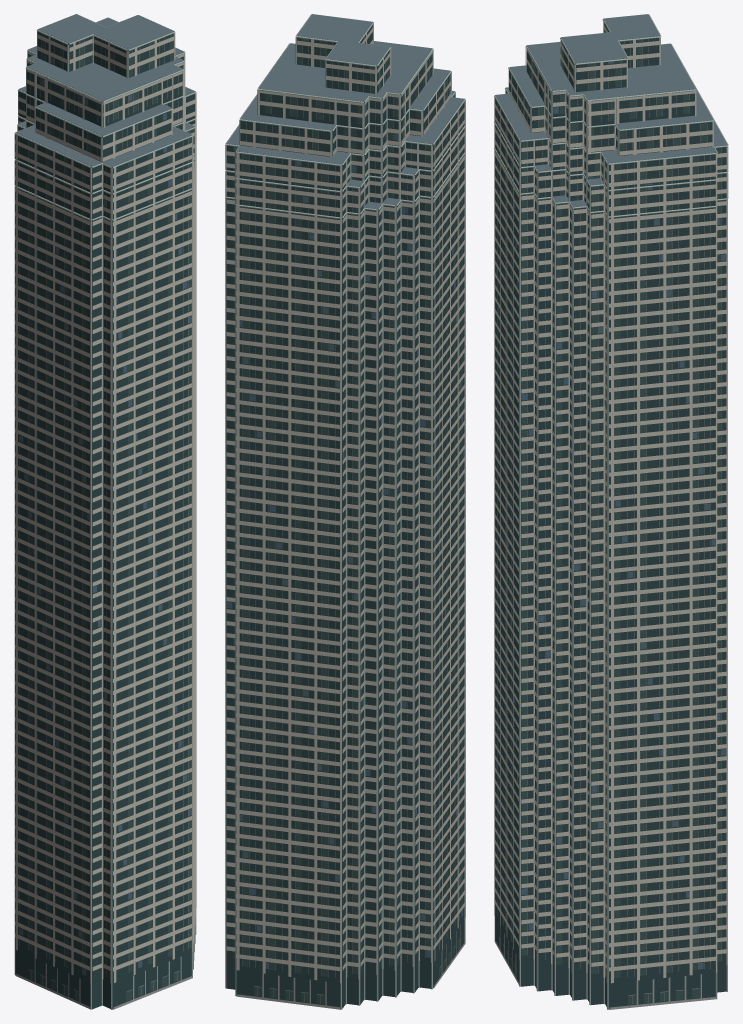
The model's file is bank-of-america-plaza-dallas-near.glb.
3 views of the same model, side by side, from view 1: azimuth 30°, elevation 25°; view 2: azimuth 150°, elevation 25°; view 3: azimuth 270°, elevation 25° (orthographic).
Parts seen in each view (by area): view 1: bank-of-america-plaza-dallas-0-glass, bank-of-america-plaza-dallas-0-band, bank-of-america-plaza-dallas-0-reflection, bank-of-america-plaza-dallas-0-light, bank-of-america-plaza-dallas-0-roof, bank-of-america-plaza-dallas-0-mullion, bank-of-america-plaza-dallas-0-glow, bank-of-america-plaza-dallas-0-stone; view 2: bank-of-america-plaza-dallas-0-glass, bank-of-america-plaza-dallas-0-band, bank-of-america-plaza-dallas-0-reflection, bank-of-america-plaza-dallas-0-light, bank-of-america-plaza-dallas-0-roof, bank-of-america-plaza-dallas-0-mullion, bank-of-america-plaza-dallas-0-glow, bank-of-america-plaza-dallas-0-stone; view 3: bank-of-america-plaza-dallas-0-glass, bank-of-america-plaza-dallas-0-band, bank-of-america-plaza-dallas-0-reflection, bank-of-america-plaza-dallas-0-light, bank-of-america-plaza-dallas-0-mullion, bank-of-america-plaza-dallas-0-roof, bank-of-america-plaza-dallas-0-glow, bank-of-america-plaza-dallas-0-stone.
Part boxes in pixels (box(x1,y1,x2,y2)): bank-of-america-plaza-dallas-0-glass: box(15, 29, 195, 1009); bank-of-america-plaza-dallas-0-band: box(15, 32, 196, 982); bank-of-america-plaza-dallas-0-reflection: box(18, 33, 194, 1001); bank-of-america-plaza-dallas-0-light: box(14, 14, 196, 1009); bank-of-america-plaza-dallas-0-roof: box(15, 14, 195, 166); bank-of-america-plaza-dallas-0-mullion: box(19, 33, 190, 999); bank-of-america-plaza-dallas-0-glow: box(15, 54, 191, 975); bank-of-america-plaza-dallas-0-stone: box(15, 956, 191, 1009); bank-of-america-plaza-dallas-0-glass: box(226, 22, 464, 1008); bank-of-america-plaza-dallas-0-band: box(226, 23, 465, 983); bank-of-america-plaza-dallas-0-reflection: box(233, 32, 462, 1004); bank-of-america-plaza-dallas-0-light: box(225, 14, 465, 1009); bank-of-america-plaza-dallas-0-roof: box(226, 14, 464, 209); bank-of-america-plaza-dallas-0-mullion: box(242, 36, 459, 1003); bank-of-america-plaza-dallas-0-glow: box(227, 38, 464, 968); bank-of-america-plaza-dallas-0-stone: box(237, 924, 464, 1009); bank-of-america-plaza-dallas-0-glass: box(495, 20, 726, 1009); bank-of-america-plaza-dallas-0-band: box(494, 22, 727, 983); bank-of-america-plaza-dallas-0-reflection: box(499, 27, 720, 1004); bank-of-america-plaza-dallas-0-light: box(494, 14, 728, 1009); bank-of-america-plaza-dallas-0-mullion: box(497, 39, 721, 1004); bank-of-america-plaza-dallas-0-roof: box(495, 14, 727, 207); bank-of-america-plaza-dallas-0-glow: box(495, 61, 726, 969); bank-of-america-plaza-dallas-0-stone: box(494, 927, 715, 1009).
Size of the model in its own units: 56.92 by 281 by 64.42.
